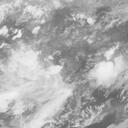cyclone: (16, 45, 62, 99)
